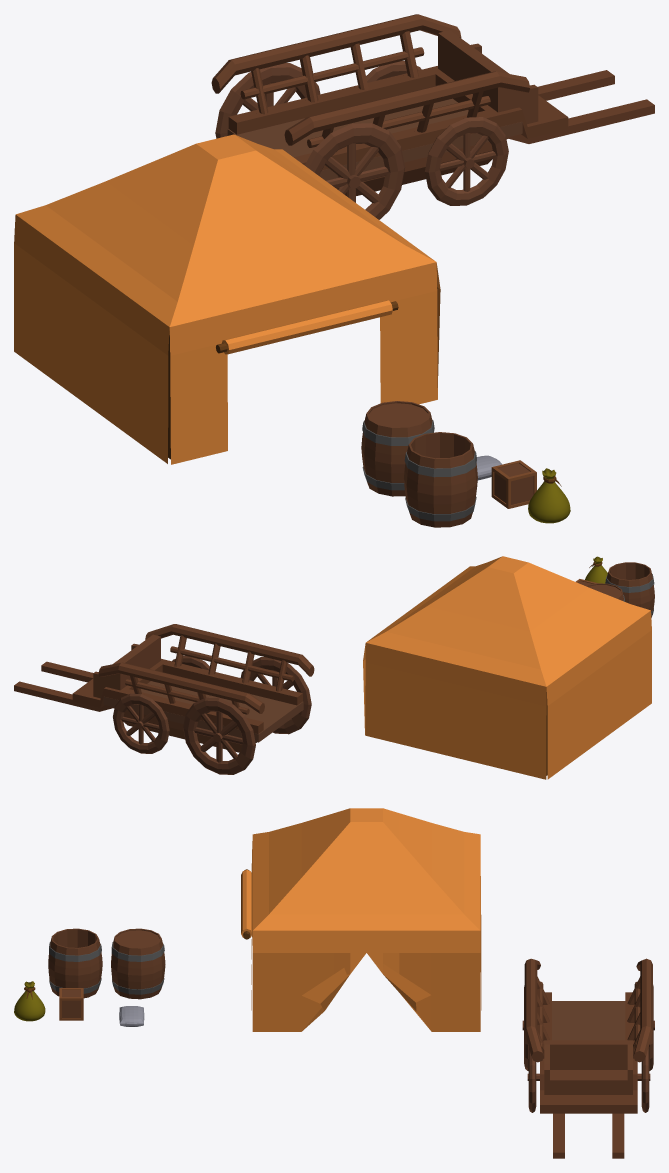
File: CampamentoMercader.fbx
The picture shows the model from 3 angles, top to bottom: view 1: azimuth 30°, elevation 25°; view 2: azimuth 150°, elevation 25°; view 3: azimuth 270°, elevation 25°; orthographic projection. The views are drawn at different scales.
Parts seen in each view (by area): view 1: carpaMercader, Baranda, Ruedas, Ruedas.001, Cylinder.002, Base2, Cylinder.005, Base, Aciento, Cylinder.001, BezierCurve, Caja (+1 smaller); view 2: carpaMercader, Baranda, Ruedas, Ruedas.001, Base, Base2, Aciento, Cylinder.002, BezierCurve, Cylinder.005; view 3: carpaMercader, Baranda, Aciento, Base, Cylinder.005, Cylinder.002, Base2, Ruedas.001, BezierCurve, Cylinder.001, Cube.
Part boxes in pixels (x1=…): carpaMercader: x1=14, y1=134, x2=440, y2=464; Baranda: x1=211, y1=14, x2=568, y2=170; Ruedas: x1=215, y1=63, x2=405, y2=219; Ruedas.001: x1=366, y1=61, x2=508, y2=205; Cylinder.002: x1=404, y1=432, x2=477, y2=527; Base2: x1=336, y1=70, x2=654, y2=195; Cylinder.005: x1=361, y1=401, x2=432, y2=496; Base: x1=227, y1=98, x2=522, y2=180; Aciento: x1=438, y1=30, x2=538, y2=124; Cylinder.001: x1=222, y1=300, x2=392, y2=354; BezierCurve: x1=528, y1=468, x2=570, y2=523; Caja: x1=494, y1=463, x2=533, y2=504; carpaMercader: x1=363, y1=556, x2=651, y2=779; Baranda: x1=72, y1=624, x2=314, y2=733; Ruedas: x1=183, y1=657, x2=311, y2=774; Ruedas.001: x1=113, y1=655, x2=209, y2=753; Base: x1=103, y1=681, x2=303, y2=742; Base2: x1=14, y1=661, x2=256, y2=752; Aciento: x1=93, y1=634, x2=160, y2=698; Cylinder.002: x1=607, y1=562, x2=654, y2=617; BezierCurve: x1=585, y1=556, x2=607, y2=583; Cylinder.005: x1=586, y1=583, x2=623, y2=600; carpaMercader: x1=251, y1=808, x2=481, y2=1031; Baranda: x1=524, y1=958, x2=652, y2=1113; Aciento: x1=544, y1=1040, x2=632, y2=1094; Base: x1=552, y1=1001, x2=625, y2=1040; Cylinder.005: x1=111, y1=928, x2=165, y2=999; Cylinder.002: x1=48, y1=928, x2=102, y2=998; Base2: x1=553, y1=1113, x2=624, y2=1158; Ruedas.001: x1=527, y1=1046, x2=650, y2=1112; BezierCurve: x1=14, y1=981, x2=45, y2=1021; Cylinder.001: x1=241, y1=870, x2=251, y2=937; Cube: x1=119, y1=1006, x2=144, y2=1026.
Bounding box in the file's own units: 1206 × 392 × 1312.
